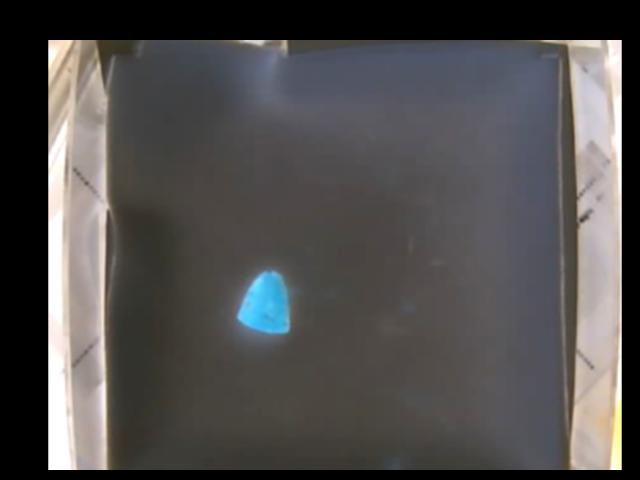Carrot: (236, 269, 289, 333)
